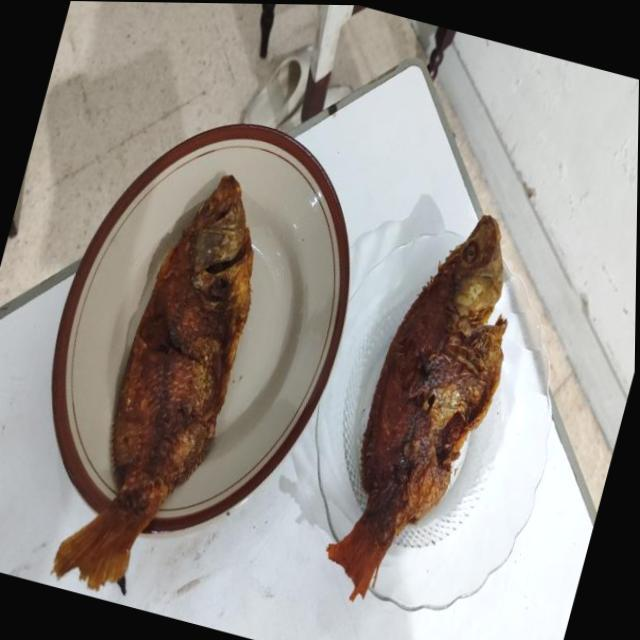ikan_mujair: (52, 176, 252, 594), (326, 215, 506, 600)
